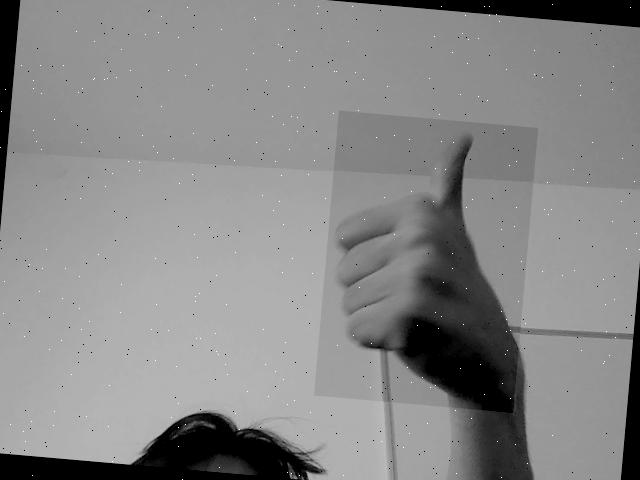good: (329, 121, 520, 412)
